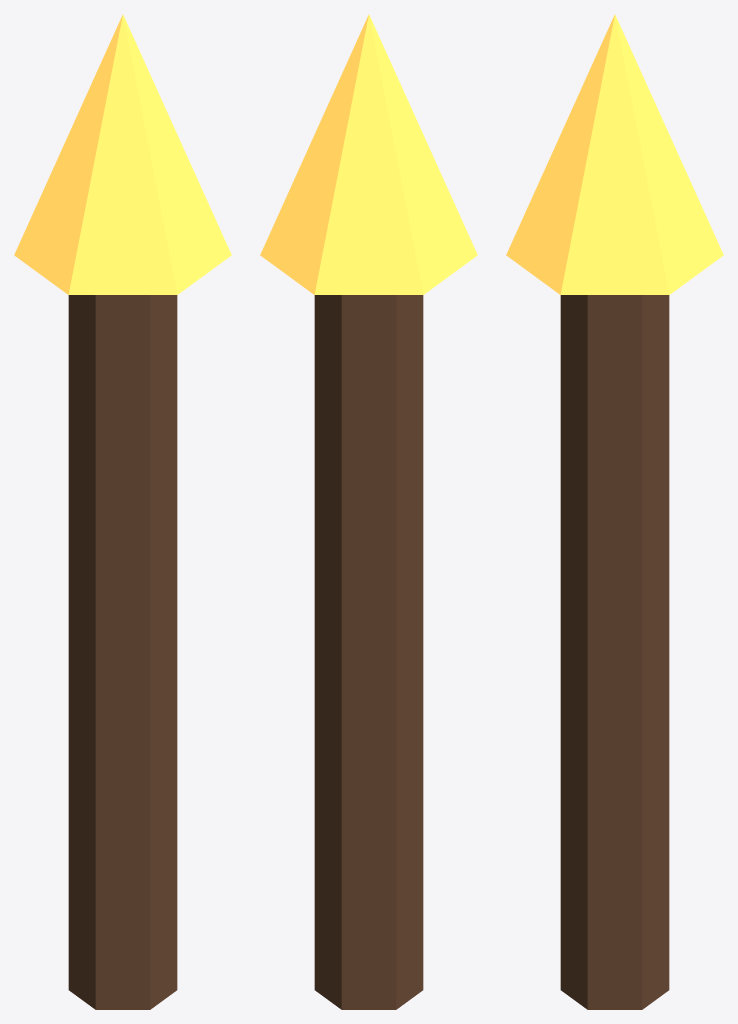
File: torch.glb
The picture shows the model from 3 angles, left to right: view 1: azimuth 30°, elevation 25°; view 2: azimuth 150°, elevation 25°; view 3: azimuth 270°, elevation 25°; orthographic projection.
Visible parts, largest first — view 1: torch; view 2: torch; view 3: torch.
Boxes of the visible parts, box(x1,y1,x2,y2) form: torch: box(14, 14, 231, 1009); torch: box(260, 14, 477, 1009); torch: box(506, 14, 723, 1009).
Size of the model in its own units: 0.1559 by 0.89 by 0.18.
